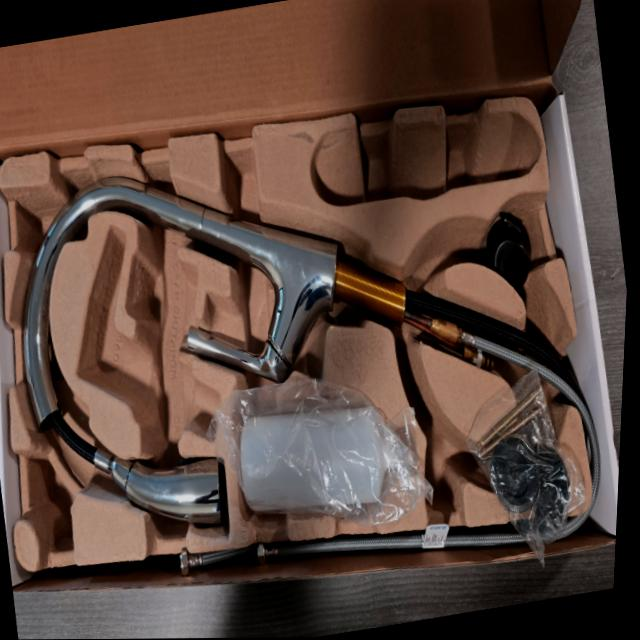1: (20, 179, 578, 523)
2m: (78, 227, 219, 439)
3: (240, 400, 411, 512)
4m: (314, 110, 544, 203)
5: (487, 214, 531, 288)
6m: (402, 368, 488, 521)
7: (465, 362, 592, 562)
